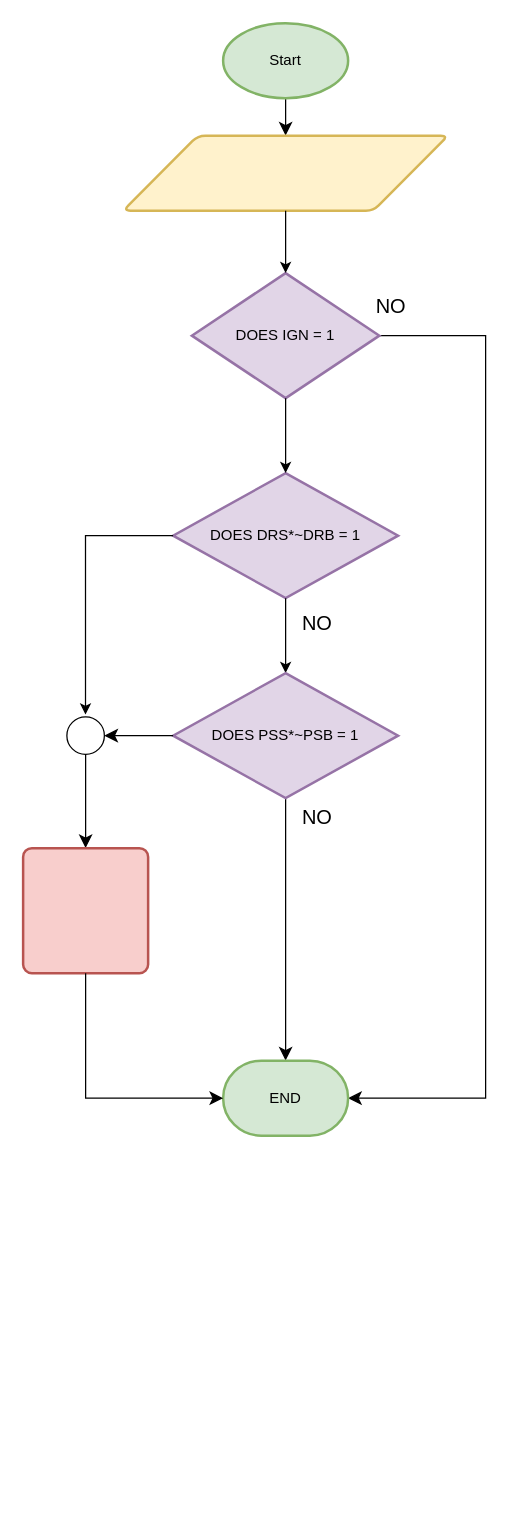
The diagram is 520 pixels wide and 1531 high, and some of its shapes have lost their labels. Each missing label, with the centre of its shape:
"READ DRS,DRB,PSS,PSB, IGN" goes at (x=285, y=172).
"Trigger Alarm" goes at (x=85, y=910).
